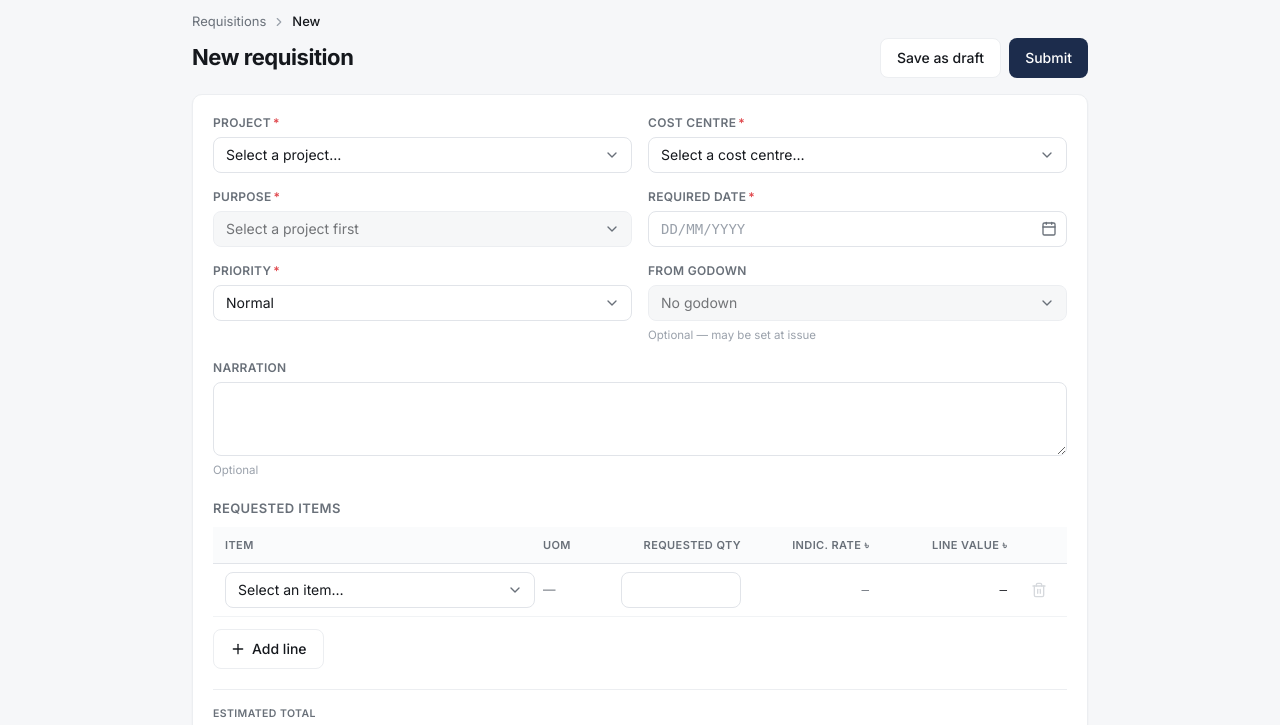
Test: RequisitionEntryForm (spec §4/§6/§7) › validates a non-positive quantity with the exact message (FR-REQ-004)
Expected: the heading "New requisition" is shown, [192,41,353,74]
Select "BR-04 — Bridge-04 — Buriganga" in the dropdown with test id "req-project" at point(422, 154), box [213,136,632,172]
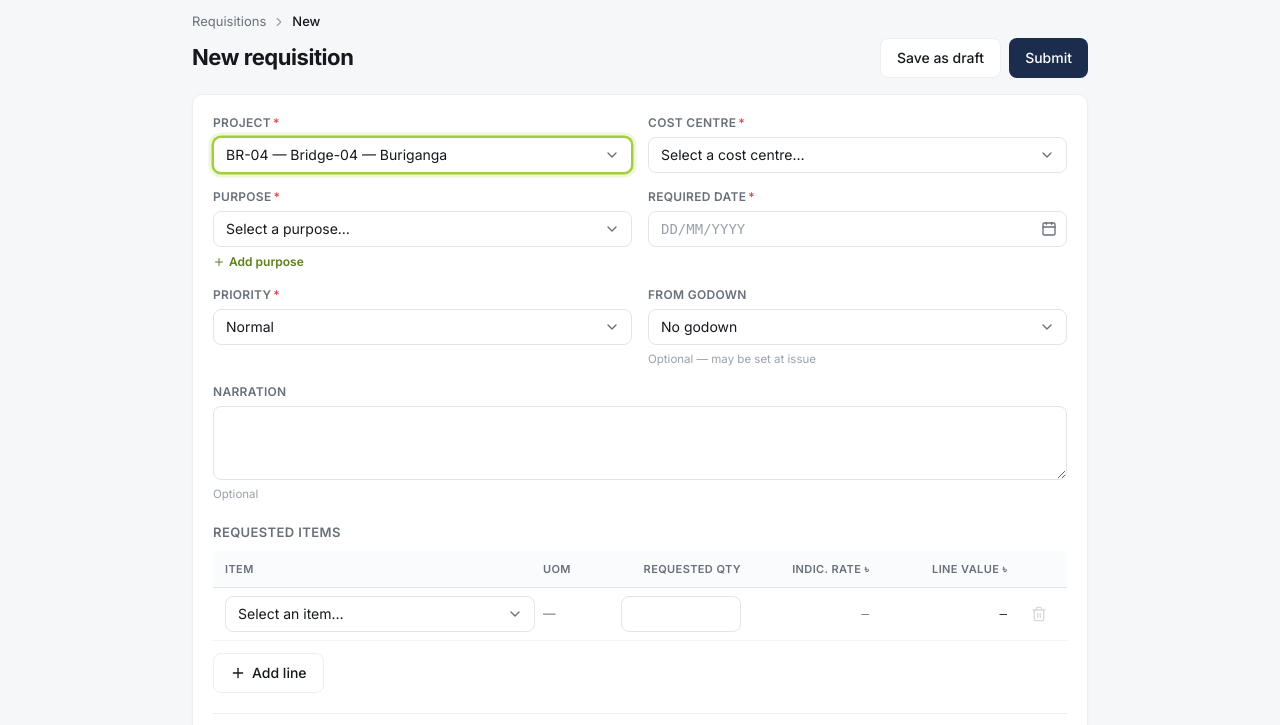
Click the button with test id "req-save" at point(941, 58), box [880,38,1001,78]
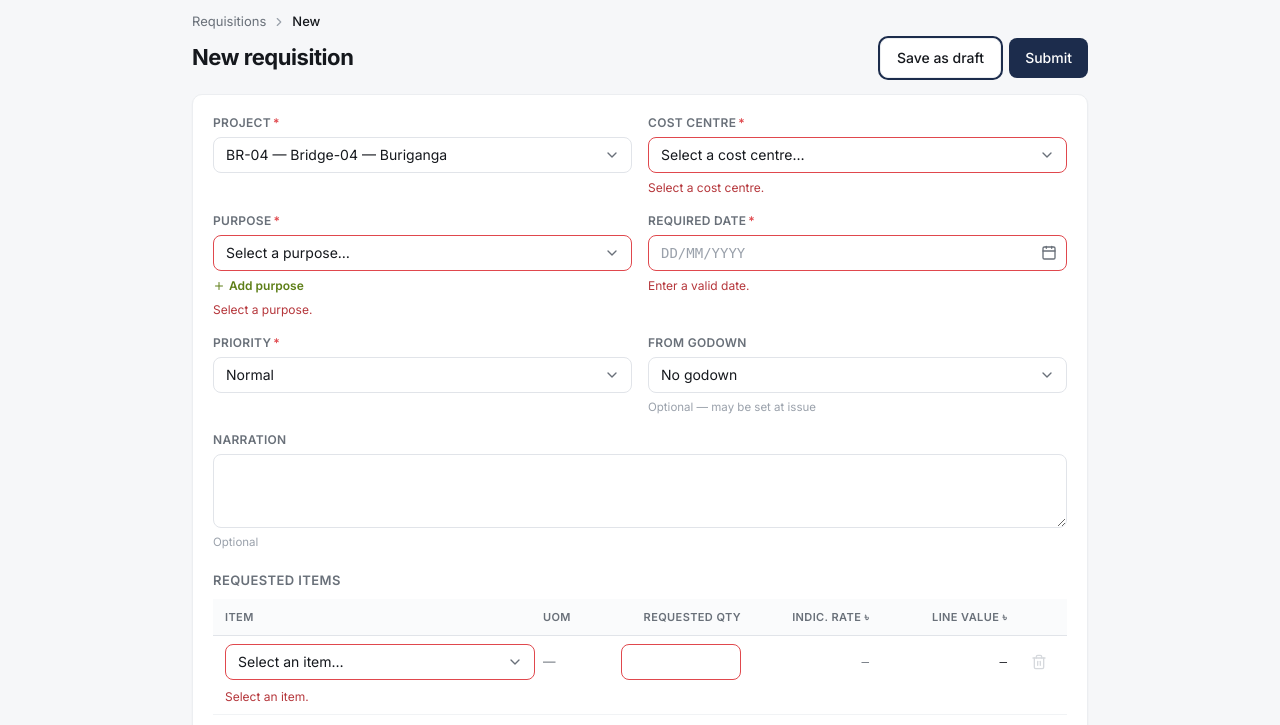
Now the text "Select a cost centre." is shown, box [648,180,764,194]
